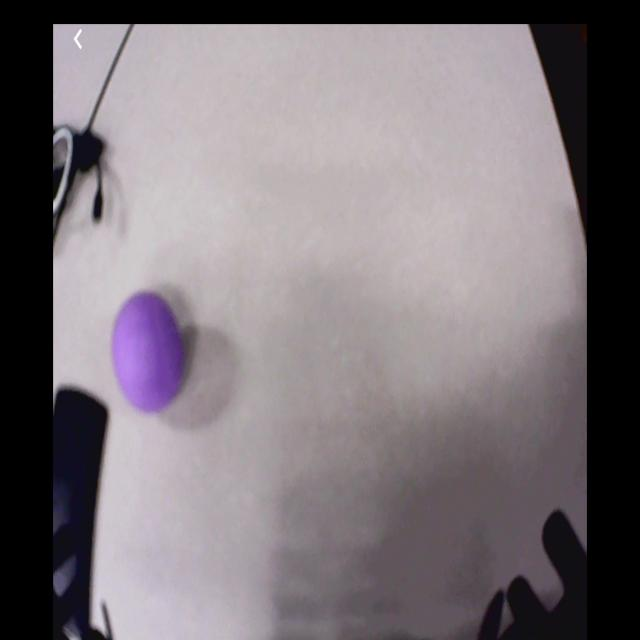ball: (113, 294, 185, 409)
